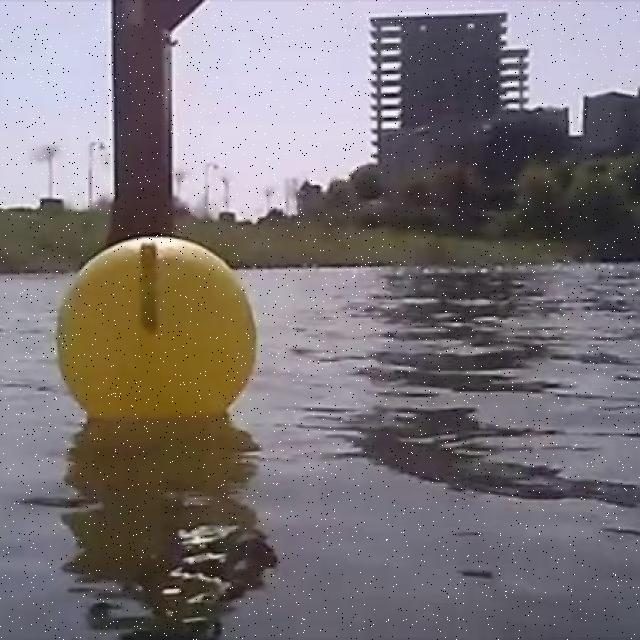buoy: (61, 241, 252, 415)
